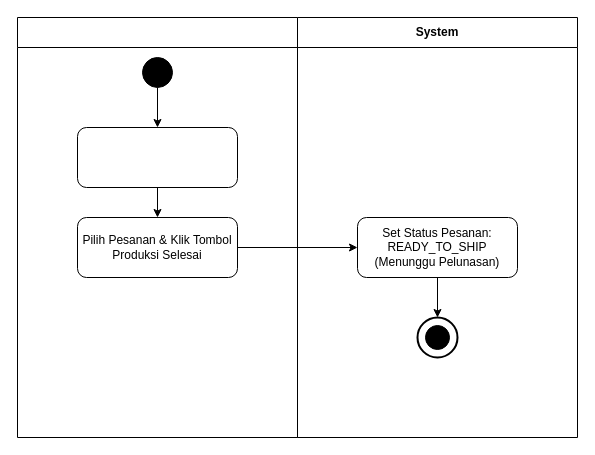
This 595x455 diagram has some shape labels left out. The shapes that lost their labels are listed below. From the top down, each one's box as (x1, y1, x2, y2) in pixels, then its label:
(76, 126, 238, 188): Melakukan Login Akun
(16, 16, 298, 438): Admin
